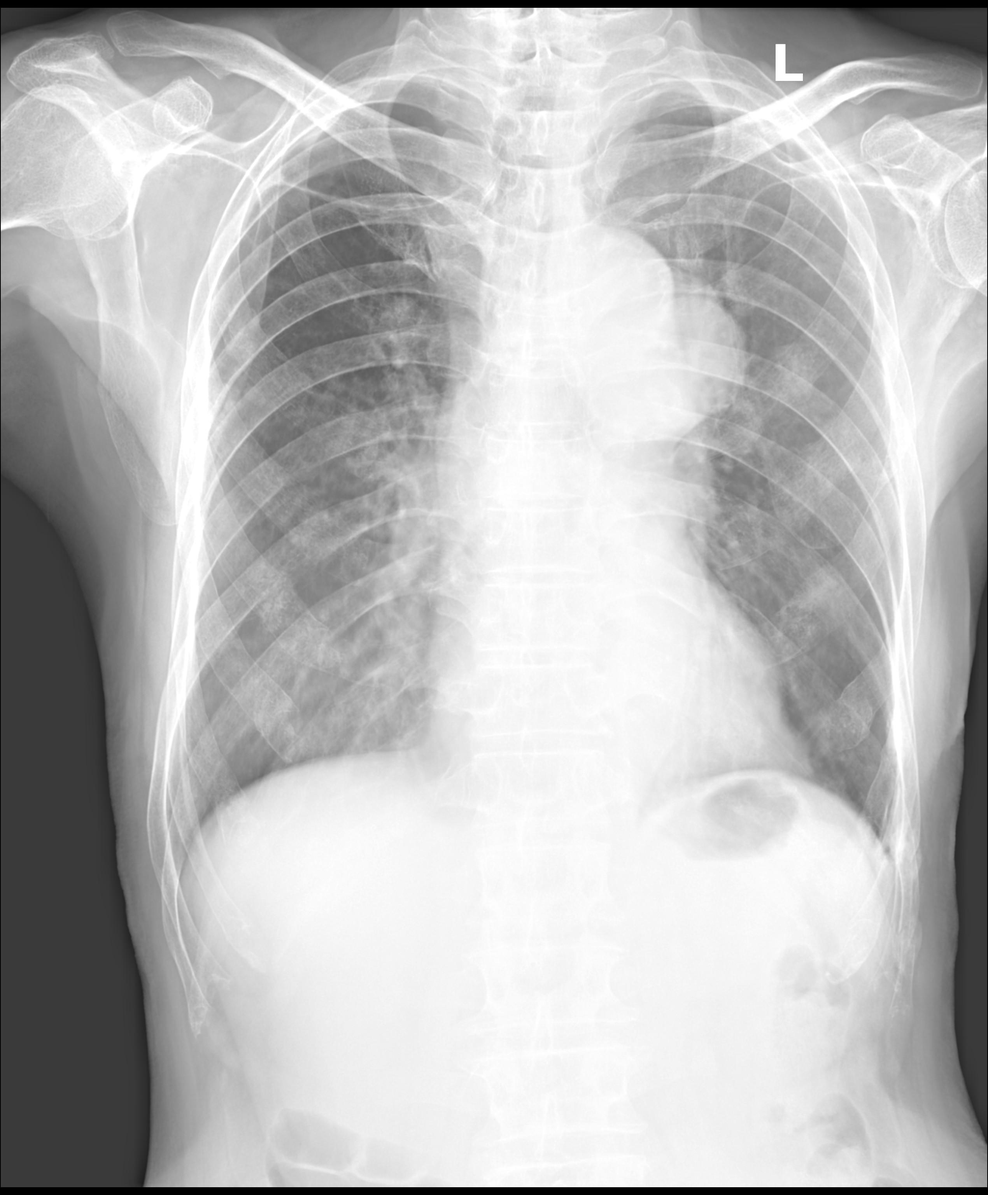Aortic enlargement: (539, 227, 674, 360)
Pleural thickening: (294, 63, 497, 147), (629, 78, 757, 97), (876, 786, 904, 869)
